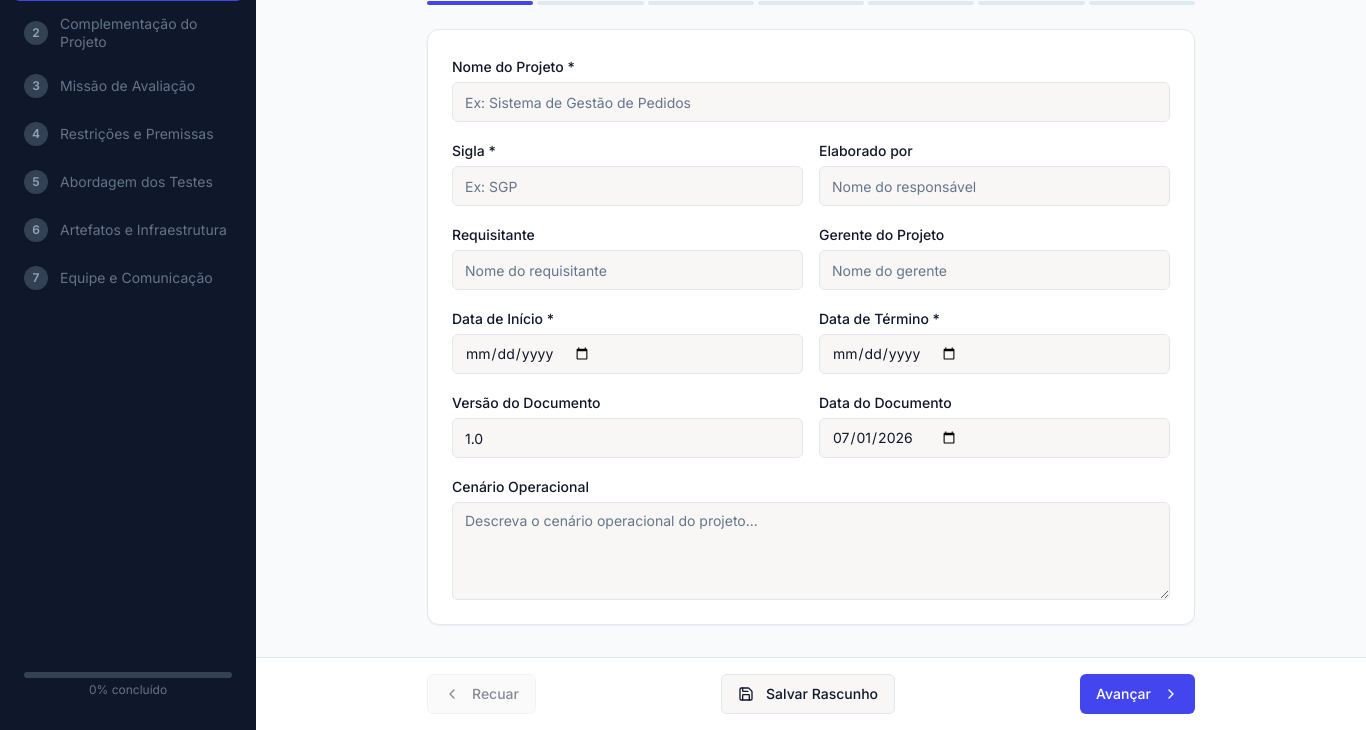
WizardPlano — navegação › não avança se campos obrigatórios da etapa 1 estiverem vazios
(page scrolled)
Click the button "Avançar".
click(1138, 694)  # box [1080,674,1195,714]
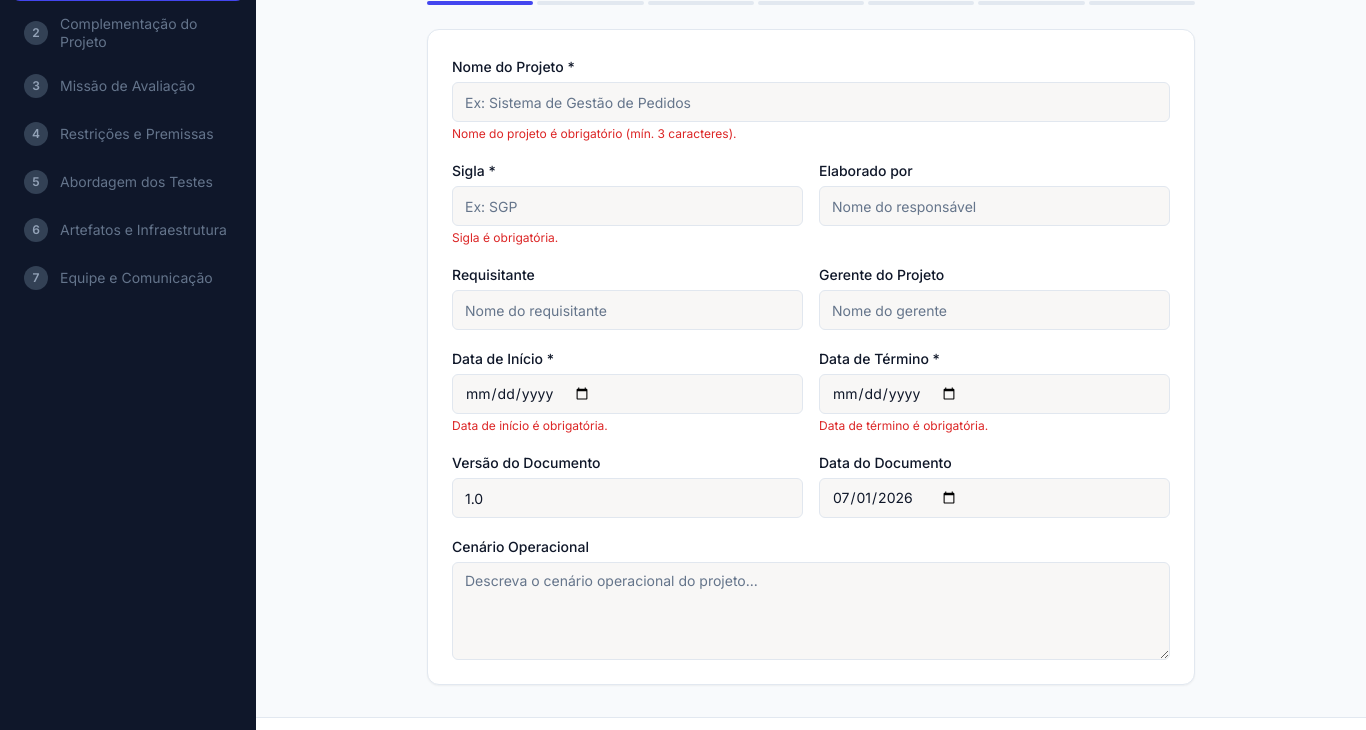
Expected: the text "Nome do projeto é obrigatório (mín. 3 caracteres)." is shown, [452,126,736,141]
